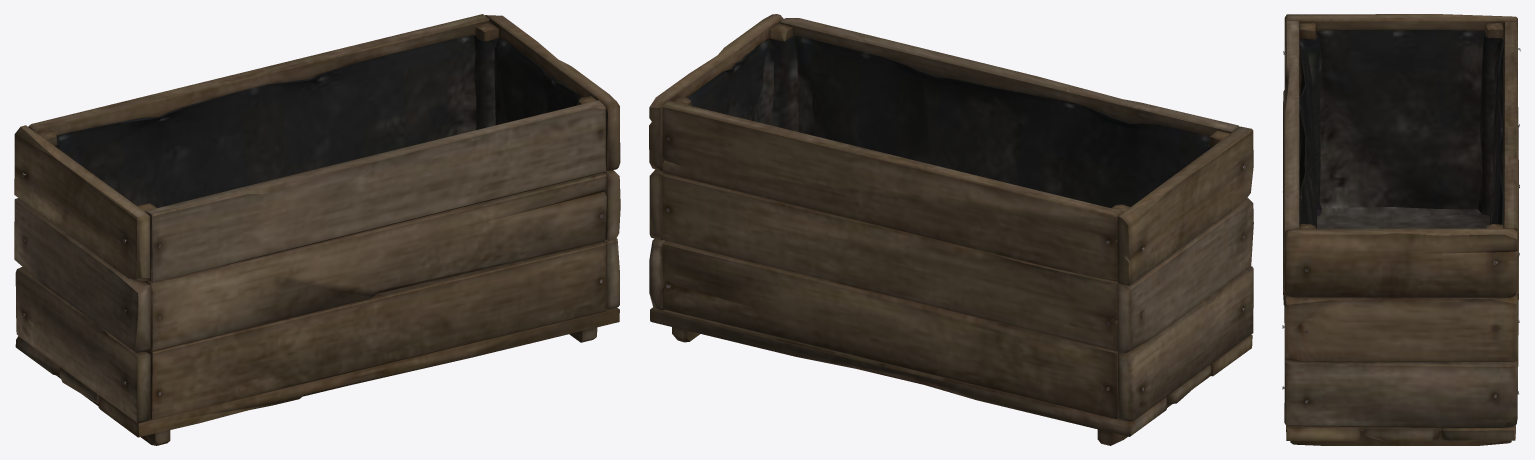
The model's file is planter_box_01.glb.
The picture shows the model from 3 angles, left to right: view 1: azimuth 30°, elevation 25°; view 2: azimuth 150°, elevation 25°; view 3: azimuth 270°, elevation 25°; orthographic projection. The views are drawn at different scales.
Visible parts, largest first — view 1: planter_box_01; view 2: planter_box_01; view 3: planter_box_01.
Boxes of the visible parts, x1,y1,x2,y2 form: planter_box_01: (14, 14, 620, 445); planter_box_01: (649, 14, 1253, 445); planter_box_01: (1282, 14, 1520, 445).
Size of the model in its own units: 0.9126 by 0.4249 by 0.4132.
1 material, 1 textured.
